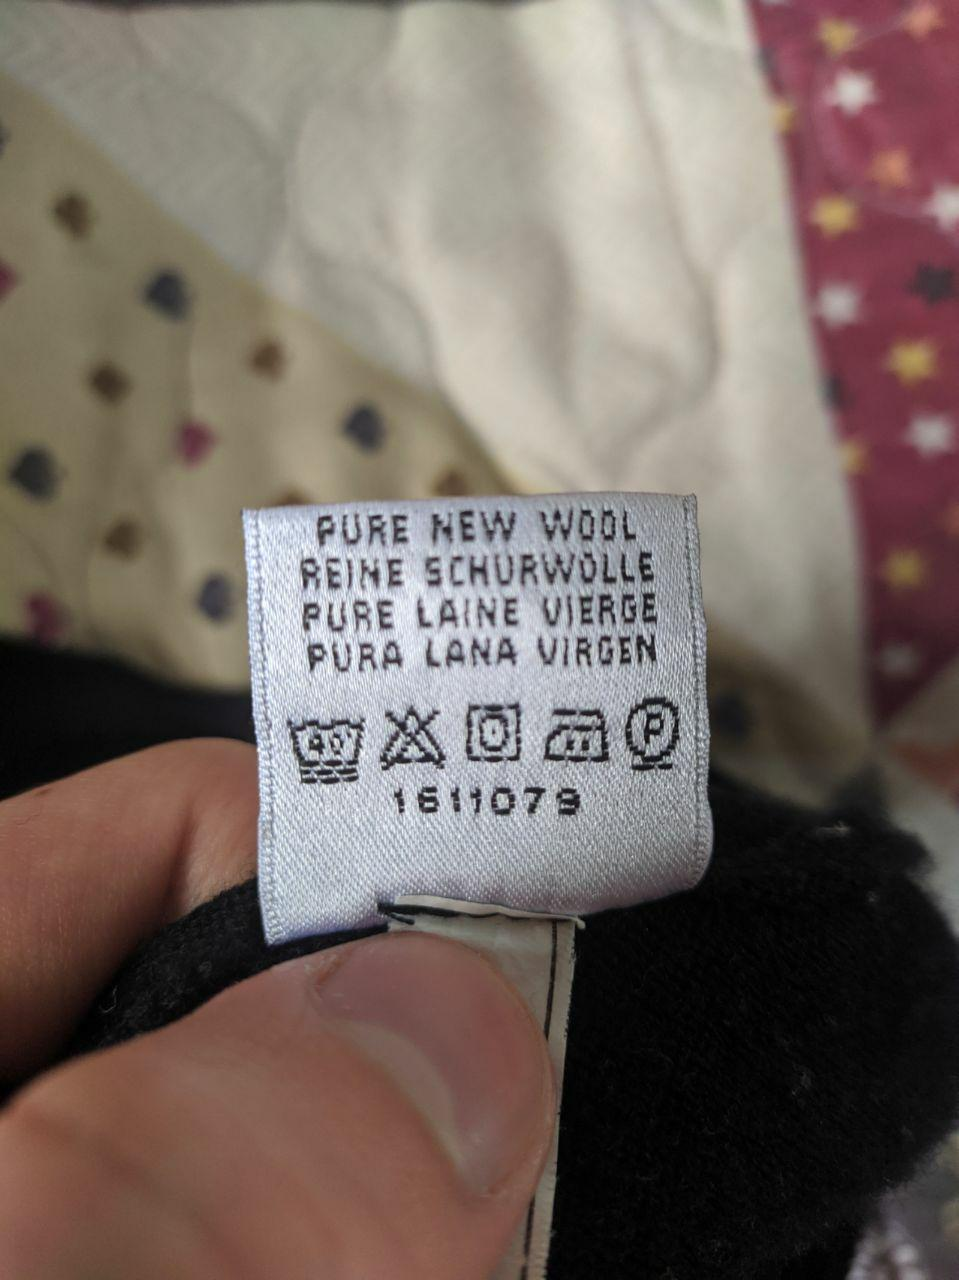40C: (284, 706, 372, 787)
DN_bleach: (378, 702, 455, 769)
dry_clean_any_solvent_except_trichloroethylene: (622, 695, 688, 775)
iron_medium: (538, 706, 614, 767)
tumble_dry_low: (461, 698, 528, 763)
